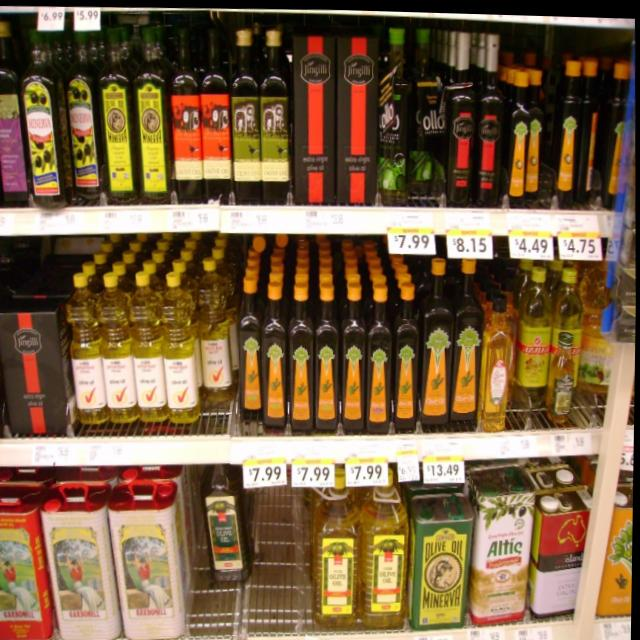q103: (0, 482, 52, 640)
q70: (55, 5, 113, 198), (18, 13, 65, 202)
